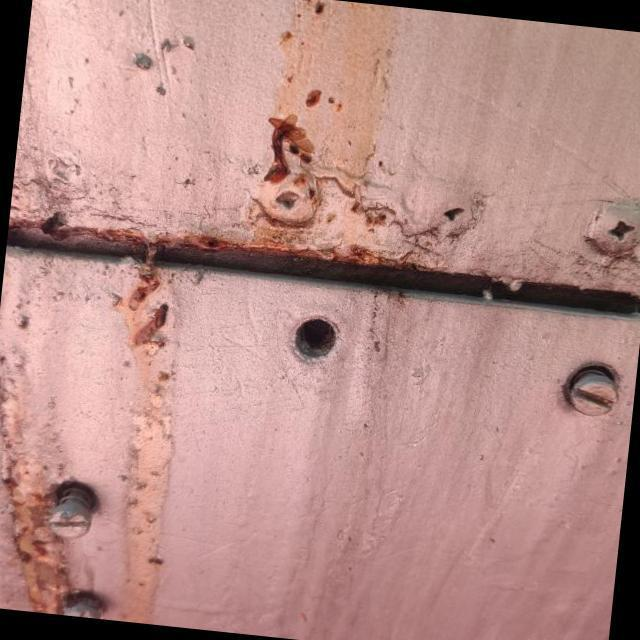Missing Fastener: (294, 317, 336, 357)
